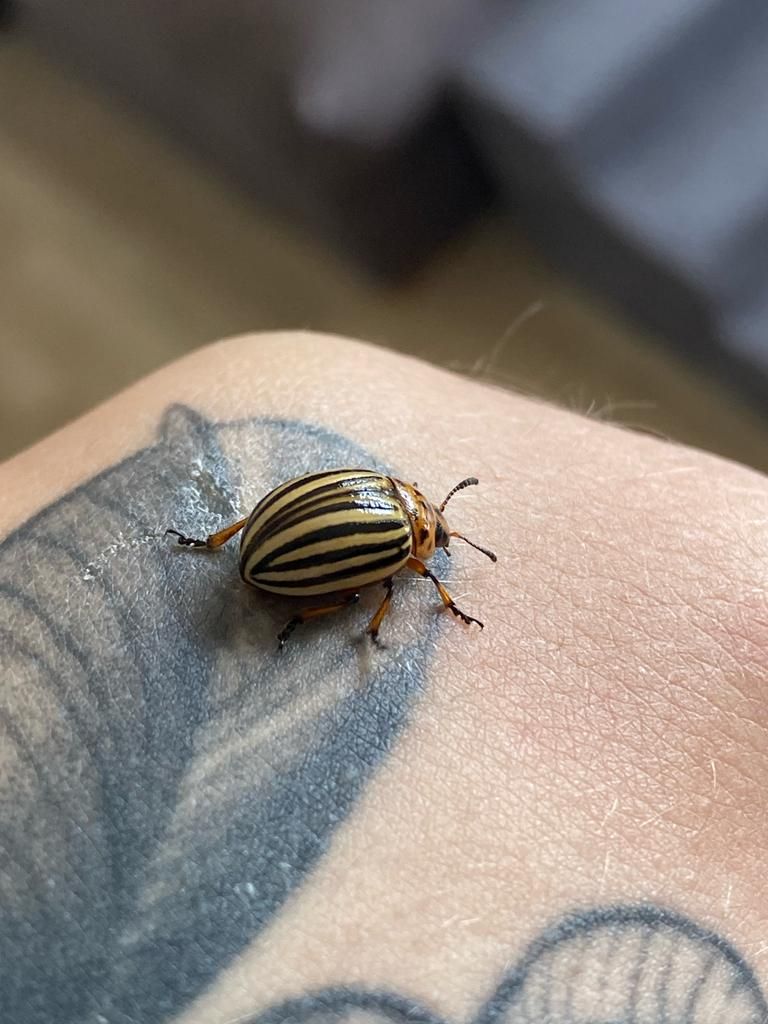potato_beetle: (121, 420, 537, 678)
